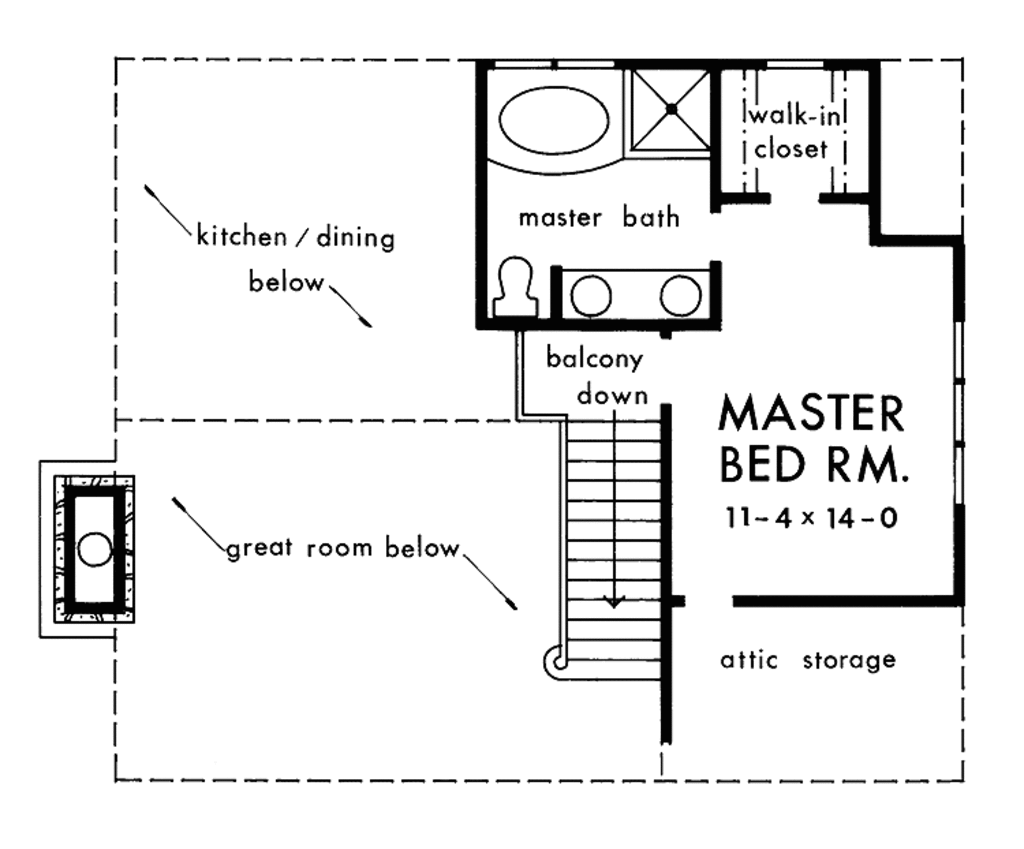large_sink: (481, 241, 541, 316)
small_sink: (566, 265, 617, 322), (659, 269, 713, 319)
stairs: (548, 408, 666, 682)
tub: (489, 64, 626, 176)
window: (954, 323, 966, 498)
